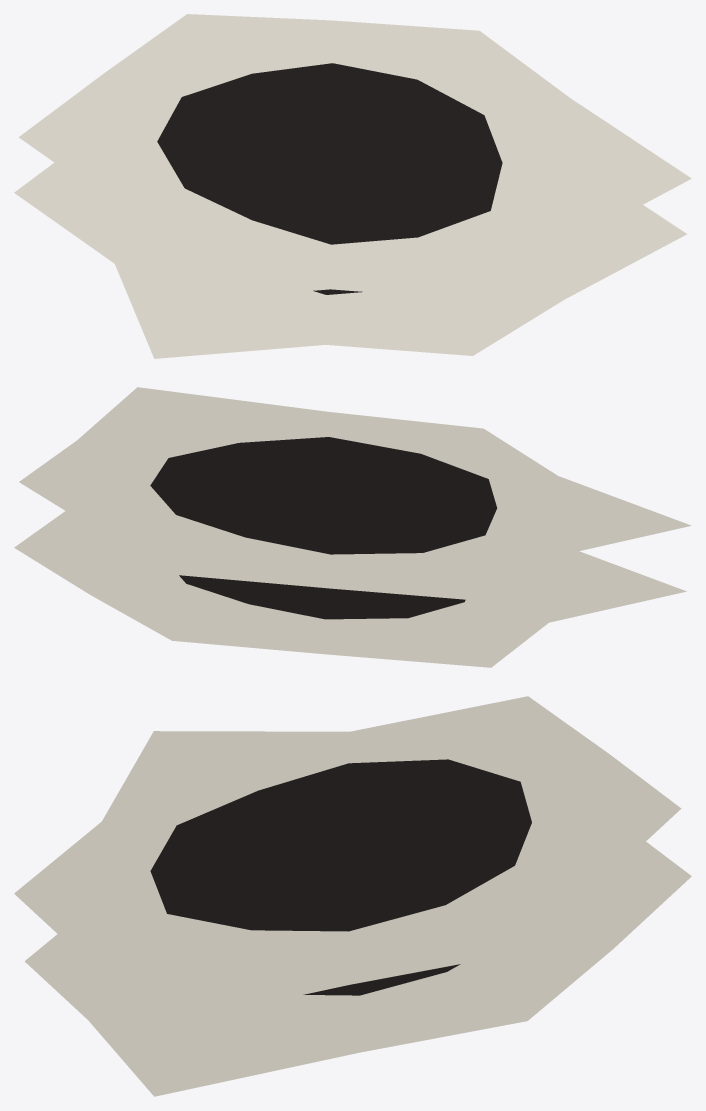
Rendered from hole_stand_03.obj.
3 views of the same model, one above another, from view 1: azimuth 30°, elevation 25°; view 2: azimuth 150°, elevation 25°; view 3: azimuth 270°, elevation 25° (orthographic). The views are drawn at different scales.
Size of the model in its own units: 0.0503 by 0.0121 by 0.0486.
